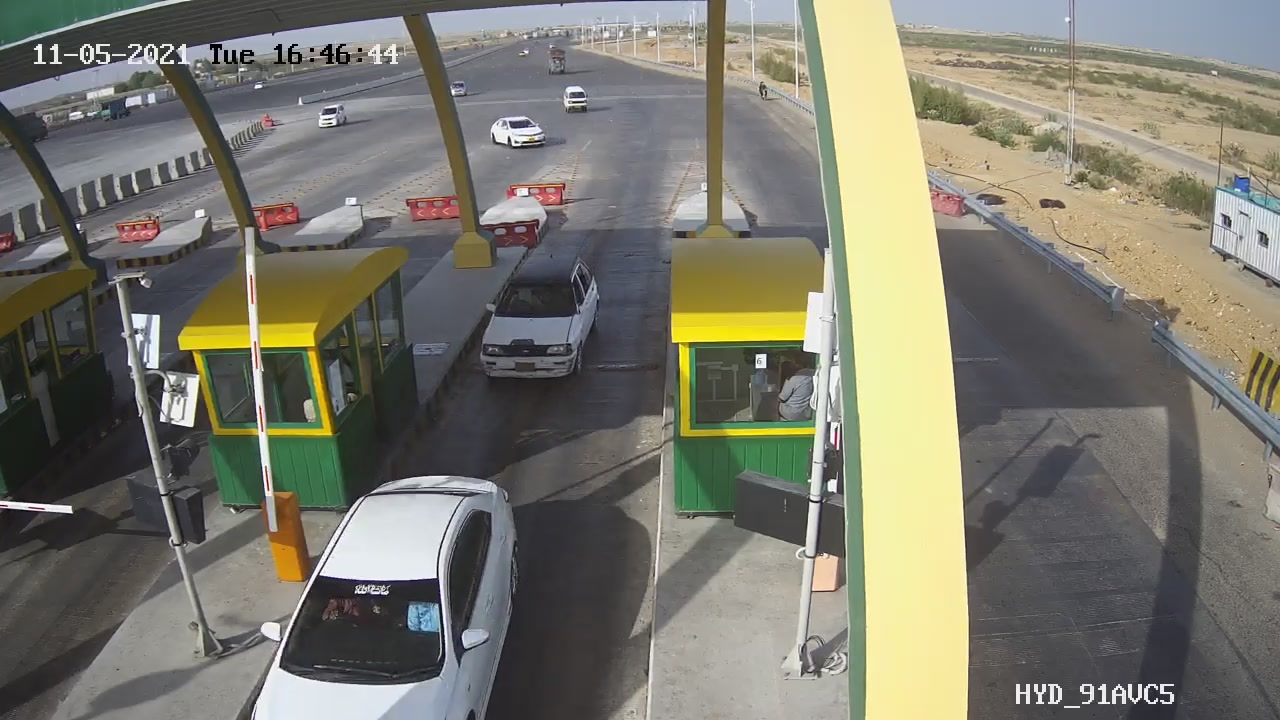F1: (454, 243, 615, 407)
